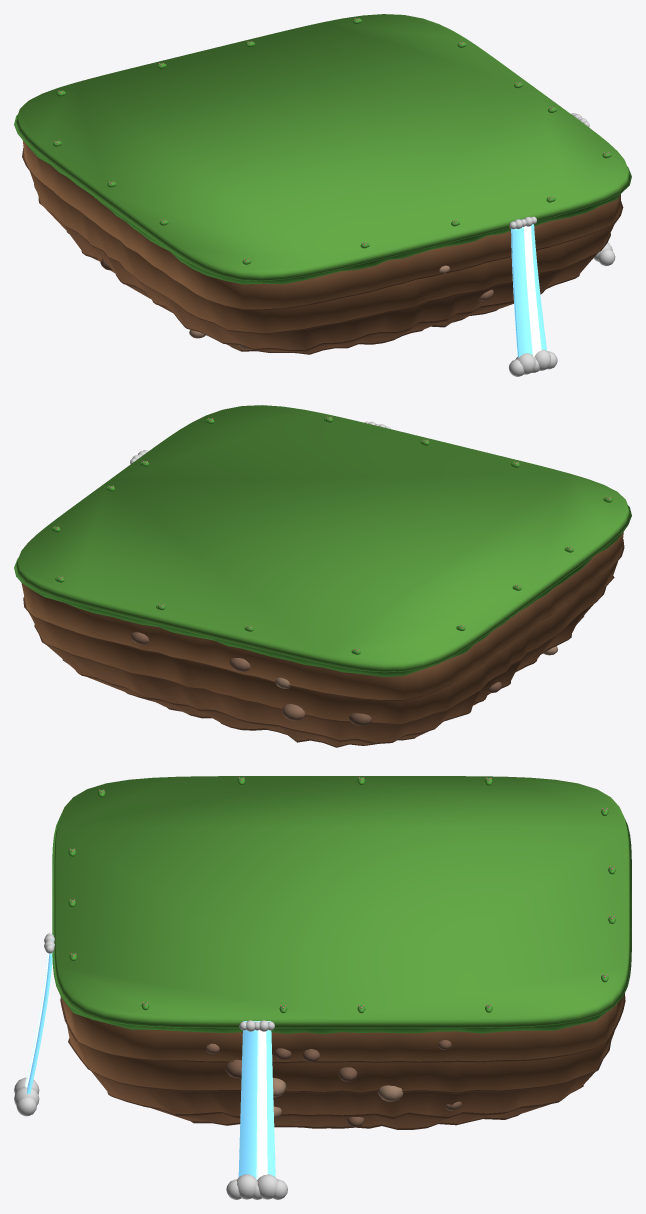
File: island.glb
3 renders of one model, top to bottom at view 1: azimuth 30°, elevation 25°; view 2: azimuth 150°, elevation 25°; view 3: azimuth 270°, elevation 25°, orthographic. The views are drawn at different scales.
Visible parts, largest first — view 1: grass; view 2: grass; view 3: grass.
Boxes of the visible parts, x1,y1,x2,y2 form: grass: (14,14,631,376); grass: (14,405,631,747); grass: (14,776,631,1199).
Size of the model in its own units: 10.19 by 3.67 by 10.19.
